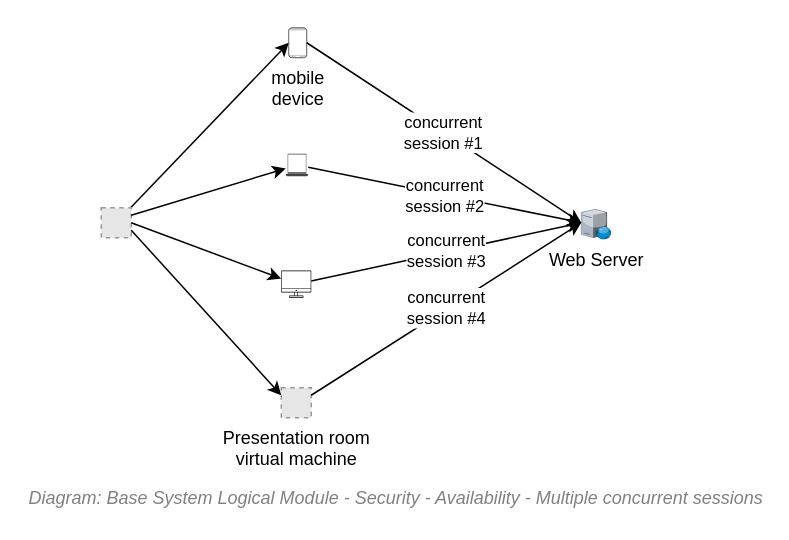
The diagram is 789 pixels wide and 540 high, and some of its shapes have lost their labels. Grey dashed boxes stand in for pictures. Each missing label, with the box of its shape:
travel laptop: (285, 153, 308, 176)
workstation desktop: (280, 268, 310, 298)
